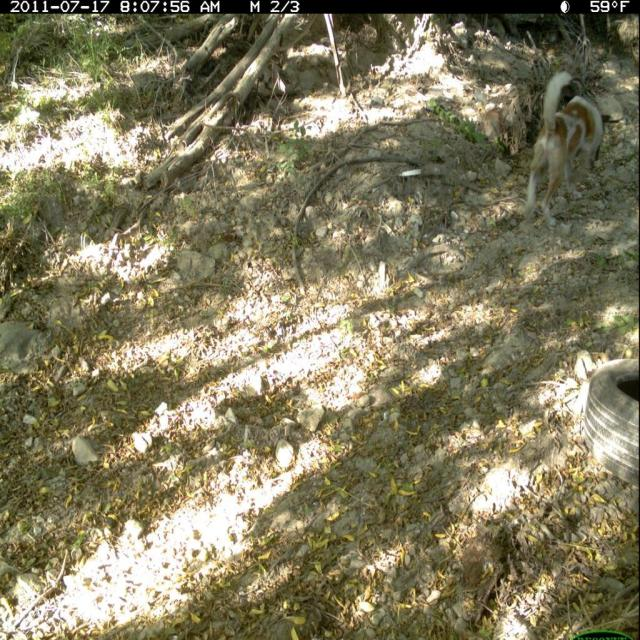dog: (523, 63, 618, 230)
